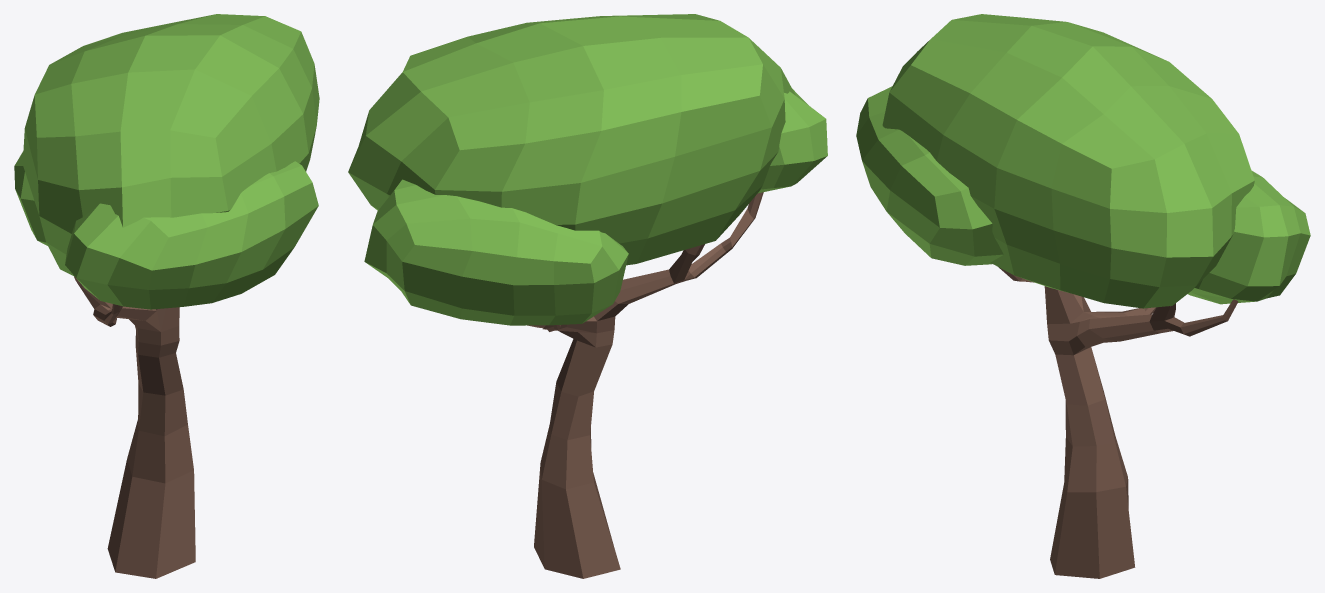
The model's file is msh_TreeClassic01.fbx.
3 views of the same model, side by side, from view 1: azimuth 30°, elevation 25°; view 2: azimuth 150°, elevation 25°; view 3: azimuth 270°, elevation 25° (orthographic).
Visible parts, largest first — view 1: Cube.020, Cube.022, Cylinder.003, Cube.021; view 2: Cube.020, Cube.021, Cylinder.003, Cube.022; view 3: Cube.020, Cylinder.003, Cube.022, Cube.021.
Boxes of the visible parts, left/top/right/bottom form: Cube.020: left=22, top=14, right=319, bottom=276; Cube.022: left=65, top=161, right=318, bottom=309; Cylinder.003: left=74, top=276, right=195, bottom=578; Cube.021: left=14, top=151, right=47, bottom=245; Cube.020: left=348, top=14, right=795, bottom=265; Cube.021: left=364, top=179, right=628, bottom=325; Cylinder.003: left=527, top=192, right=763, bottom=578; Cube.022: left=758, top=88, right=827, bottom=193; Cube.020: left=882, top=14, right=1254, bottom=308; Cylinder.003: left=998, top=267, right=1238, bottom=578; Cube.022: left=856, top=86, right=1003, bottom=265; Cube.021: left=1188, top=171, right=1310, bottom=304.
Size of the model in its own units: 240 by 346 by 274.
